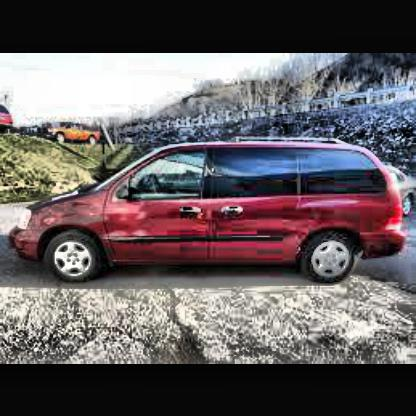Ford Freestar Minivan 2007: (14, 135, 409, 277)
